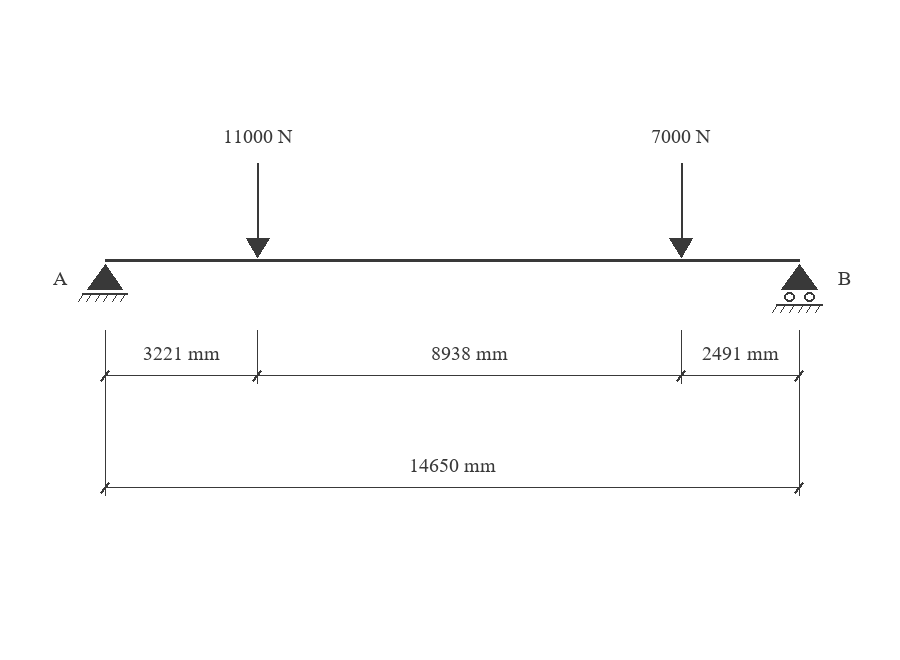pin_support: (78, 264, 128, 302)
point_load: (246, 163, 270, 258), (669, 163, 693, 258)
roller_support: (772, 264, 823, 313)
